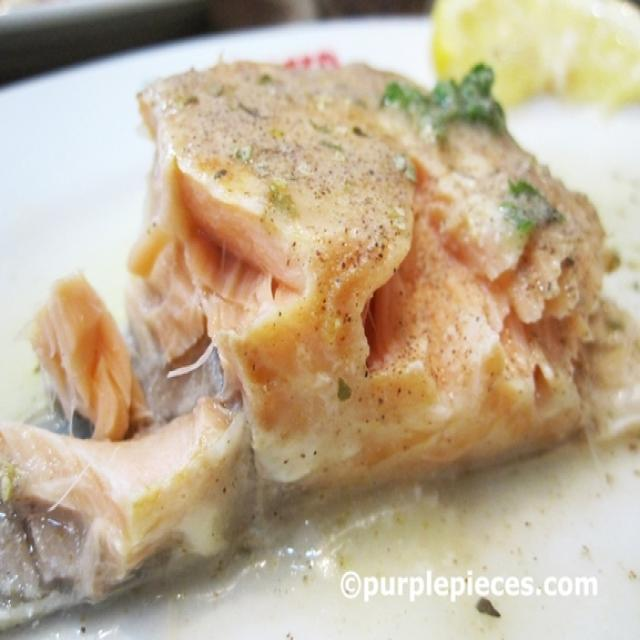熟制海鲜: (18, 15, 623, 621)
